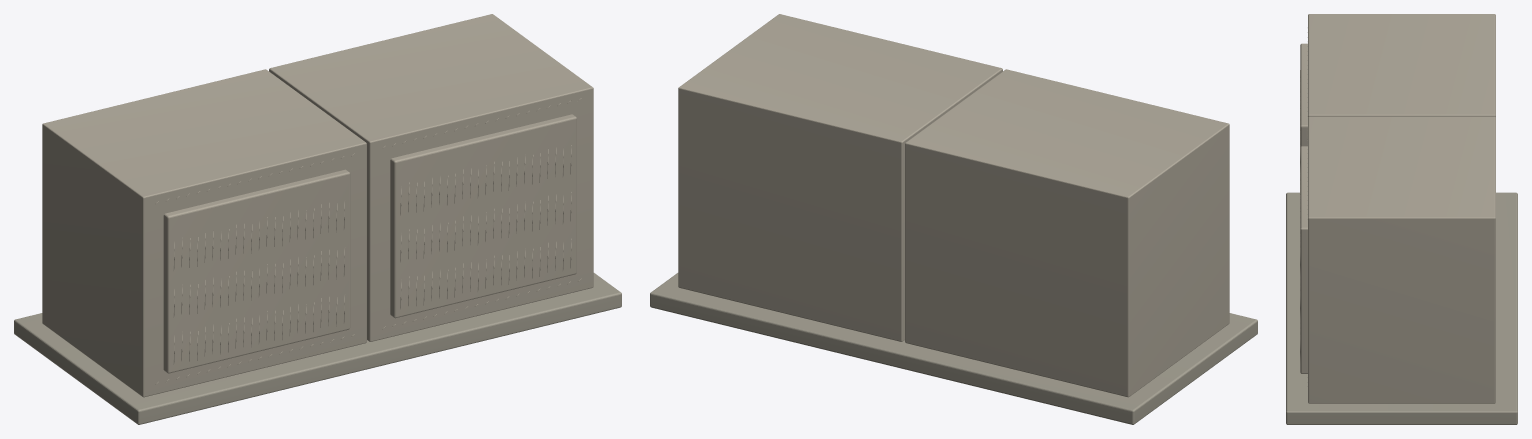
File: herod-stone.glb
3 renders of one model, left to right at view 1: azimuth 30°, elevation 25°; view 2: azimuth 150°, elevation 25°; view 3: azimuth 270°, elevation 25°, orthographic. The views are drawn at different scales.
Parts seen in each view (by area): view 1: herod-stone-herod-pale-limestone, herod-stone-herod-pale-limestone.001, herod-stone-modern-diagram-base, herod-stone-herod-tool-trace.001, herod-stone-herod-tool-trace; view 2: herod-stone-herod-pale-limestone, herod-stone-herod-pale-limestone.001, herod-stone-modern-diagram-base; view 3: herod-stone-herod-pale-limestone.001, herod-stone-herod-pale-limestone, herod-stone-modern-diagram-base.
Part boxes in pixels (<box>): herod-stone-herod-pale-limestone: <box>42,69,366,397</box>; herod-stone-herod-pale-limestone.001: <box>269,14,593,341</box>; herod-stone-modern-diagram-base: <box>14,273,621,424</box>; herod-stone-herod-tool-trace.001: <box>400,145,571,309</box>; herod-stone-herod-tool-trace: <box>173,200,345,364</box>; herod-stone-herod-pale-limestone: <box>905,69,1229,397</box>; herod-stone-herod-pale-limestone.001: <box>678,14,1002,341</box>; herod-stone-modern-diagram-base: <box>650,273,1257,424</box>; herod-stone-herod-pale-limestone.001: <box>1300,116,1495,403</box>; herod-stone-herod-pale-limestone: <box>1300,14,1495,147</box>; herod-stone-modern-diagram-base: <box>1286,192,1517,424</box>.
Bounding box in the file's own units: 0.94 × 0.4 × 0.42.
